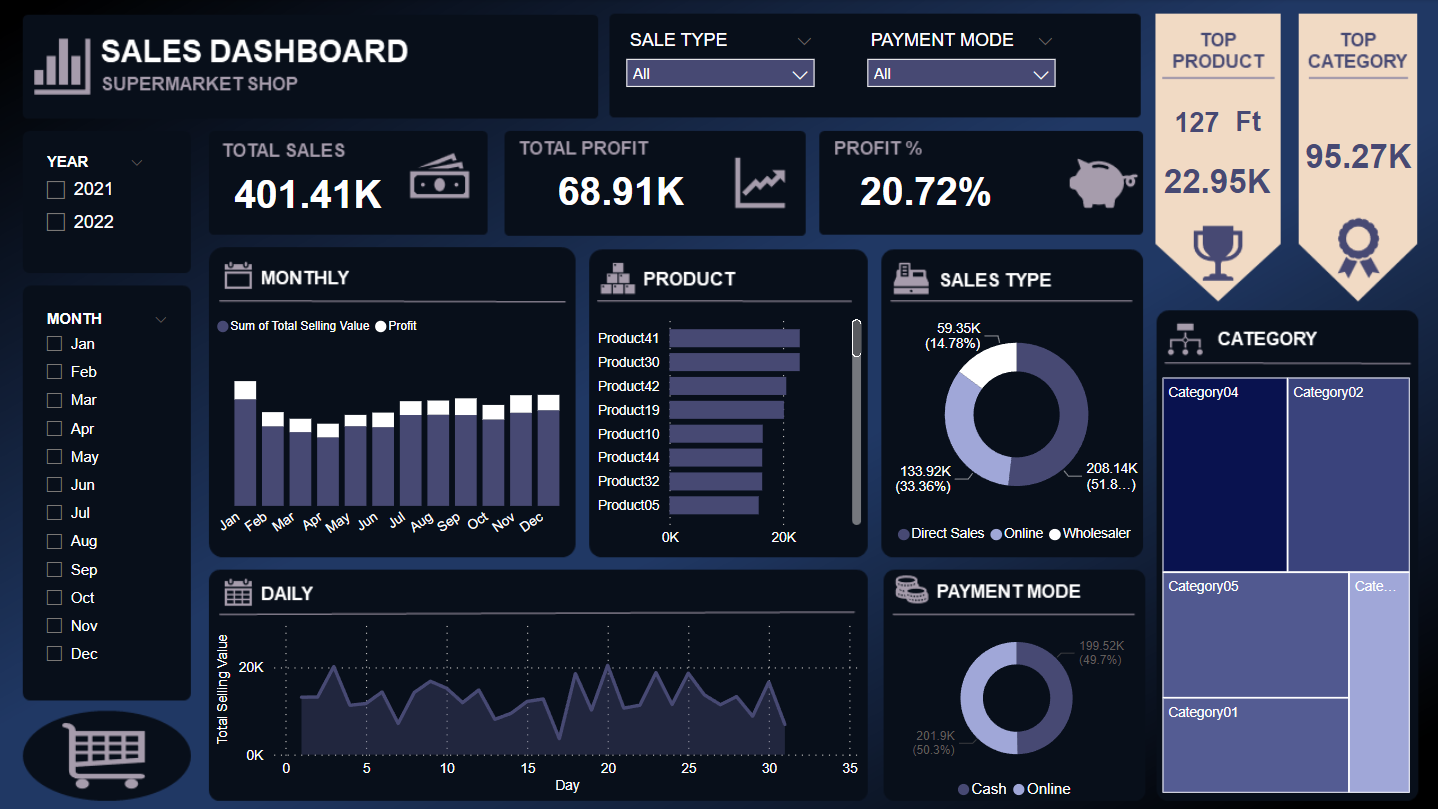

The page's visual inventory and layout, read from the dashboard file:
{"tool":"powerbi","page":{"name":"Sales Dashboard","canvas":[1280,720],"ordinal":0},"visuals":[{"type":"slicer","fields":{"Values":["InputData.Year"]},"box":[30,132.2,111.1,97.8],"z":0},{"type":"slicer","fields":{"Values":["InputData.SALE TYPE"]},"box":[546.7,23.3,186.7,67.8],"z":1000},{"type":"slicer","fields":{"Values":["InputData.PAYMENT MODE"]},"box":[761.1,23.3,186.7,67.8],"z":2000},{"type":"slicer","fields":{"Values":["InputData.Month Name"]},"box":[30,271.1,132.2,353.3],"z":3000},{"type":"card","fields":{"Values":["Min(InputData.MasterData.UOM)"]},"box":[1088.9,91.1,38.9,35.6],"z":4000},{"type":"card","fields":{"Values":["Sum(InputData.Total Selling Value)"]},"box":[1144.4,110,123.3,58.9],"z":5000},{"type":"card","fields":{"Values":["Sum(InputData.Total Selling Value)"]},"box":[1016.7,136.7,127.8,48.9],"z":6000},{"type":"card","fields":{"Values":["InputData.Profit %"]},"box":[738.9,140,168.9,58.9],"z":7000},{"type":"card","fields":{"Values":["InputData.Profit"]},"box":[463.3,140,176.7,58.9],"z":8000},{"type":"card","fields":{"Values":["Sum(InputData.Total Selling Value)"]},"box":[197.8,143.3,154.4,55.6],"z":9000},{"type":"card","fields":{"Values":["Sum(InputData.QUANTITY)"]},"box":[1037.8,91.1,51.1,36.7],"z":10000},{"type":"columnChart","fields":{"Category":["InputData.Month Name"],"Y":["Sum(InputData.Total Selling Value)","InputData.Profit"]},"box":[188.9,271.1,324.4,222.2],"z":11000},{"type":"barChart","fields":{"Y":["Sum(InputData.Total Selling Value)"],"Category":["InputData.MasterData.PRODUCT"]},"box":[521.1,271.1,248.9,222.2],"z":12000},{"type":"areaChart","fields":{"Y":["Avg(InputData.Total Selling Value)"],"Category":["InputData.Day"]},"box":[188.9,540,581.1,168.9],"z":13000},{"type":"donutChart","fields":{"Y":["Sum(InputData.Total Selling Value)"],"Category":["InputData.SALE TYPE"]},"box":[781.2,271.3,235.9,221.7],"z":14000},{"type":"donutChart","fields":{"Y":["CountNonNull(InputData.Total Selling Value)"],"Series":["InputData.PAYMENT MODE"]},"box":[788.9,548.9,227.8,171.1],"z":15000},{"type":"treemap","fields":{"Group":["InputData.MasterData.CATEGORY"],"Values":["Sum(InputData.Total Selling Value)"]},"box":[1027.8,331.1,228.9,377.8],"z":16000}]}

Visuals, with their boxes in screenshot pixels (x1, y1, x2, y2), scaled from the page's 1280x720 canvas onto the 1438x809 screenshot:
slicer - InputData.Year: <bbox>34, 149, 159, 258</bbox>
slicer - InputData.SALE TYPE: <bbox>614, 26, 824, 102</bbox>
slicer - InputData.PAYMENT MODE: <bbox>855, 26, 1065, 102</bbox>
slicer - InputData.Month Name: <bbox>34, 305, 182, 702</bbox>
card - Min(InputData.MasterData.UOM): <bbox>1223, 102, 1267, 142</bbox>
card - Sum(InputData.Total Selling Value): <bbox>1286, 124, 1424, 190</bbox>
card - Sum(InputData.Total Selling Value): <bbox>1142, 154, 1286, 209</bbox>
card - InputData.Profit %: <bbox>830, 157, 1020, 223</bbox>
card - InputData.Profit: <bbox>520, 157, 719, 223</bbox>
card - Sum(InputData.Total Selling Value): <bbox>222, 161, 396, 223</bbox>
card - Sum(InputData.QUANTITY): <bbox>1166, 102, 1223, 144</bbox>
columnChart - InputData.Month Name x Sum(InputData.Total Selling Value): <bbox>212, 305, 577, 554</bbox>
barChart - Sum(InputData.Total Selling Value) x InputData.MasterData.PRODUCT: <bbox>585, 305, 865, 554</bbox>
areaChart - Avg(InputData.Total Selling Value) x InputData.Day: <bbox>212, 607, 865, 797</bbox>
donutChart - Sum(InputData.Total Selling Value) x InputData.SALE TYPE: <bbox>878, 305, 1143, 554</bbox>
donutChart - CountNonNull(InputData.Total Selling Value) x InputData.PAYMENT MODE: <bbox>886, 617, 1142, 808</bbox>
treemap - InputData.MasterData.CATEGORY x Sum(InputData.Total Selling Value): <bbox>1155, 372, 1412, 797</bbox>
